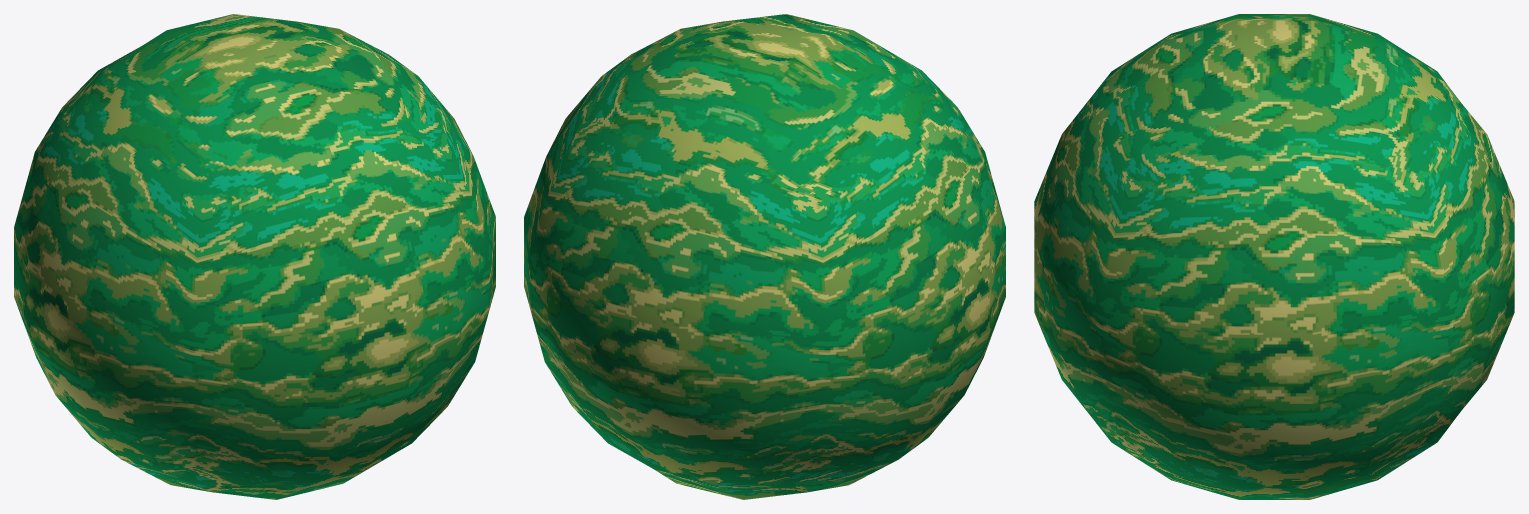
File: verde.glb
The picture shows the model from 3 angles, left to right: view 1: azimuth 30°, elevation 25°; view 2: azimuth 150°, elevation 25°; view 3: azimuth 270°, elevation 25°; orthographic projection.
Visible parts, largest first — view 1: Asset3DLoader.sceneRoot; view 2: Asset3DLoader.sceneRoot; view 3: Asset3DLoader.sceneRoot.
Boxes of the visible parts, left/top/right/bottom form: Asset3DLoader.sceneRoot: left=14, top=14, right=495, bottom=499; Asset3DLoader.sceneRoot: left=524, top=14, right=1005, bottom=499; Asset3DLoader.sceneRoot: left=1034, top=14, right=1514, bottom=499.
Size of the model in its own units: 3.36 by 3.36 by 3.36.
Materials: 1 (1 with a texture image).
